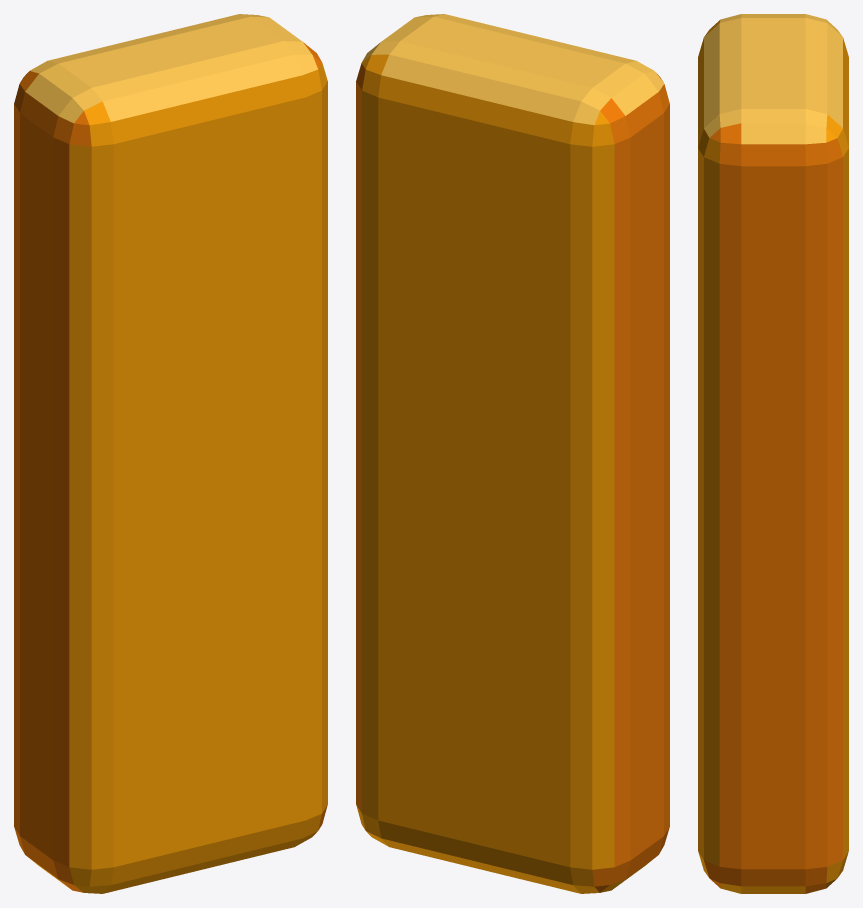
File: player.glb
3 views of the same model, side by side, from view 1: azimuth 30°, elevation 25°; view 2: azimuth 150°, elevation 25°; view 3: azimuth 270°, elevation 25° (orthographic). The views are drawn at different scales.
Visible parts, largest first — view 1: body; view 2: body; view 3: body.
Boxes of the visible parts, x1=… form: body: x1=14, y1=14, x2=327, y2=893; body: x1=356, y1=14, x2=669, y2=893; body: x1=698, y1=14, x2=848, y2=893.
Size of what is drawn, in the model's own units: 0.7 by 2 by 0.35.
1 material, 1 textured.
